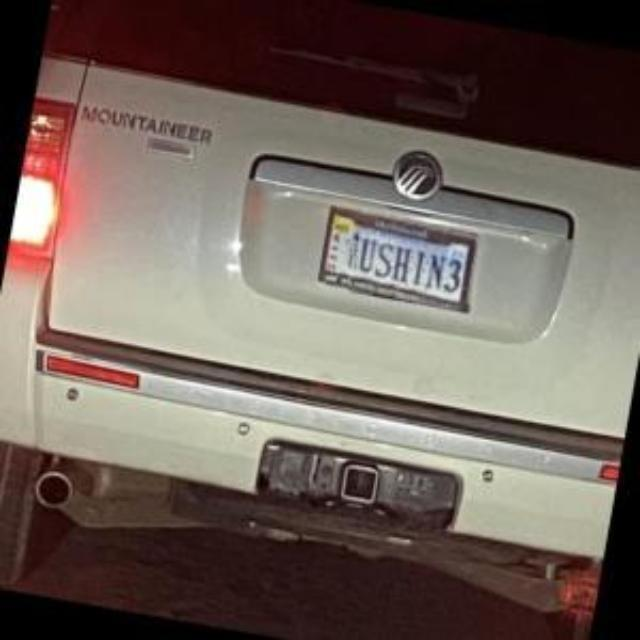License Plate: (315, 201, 484, 313)
